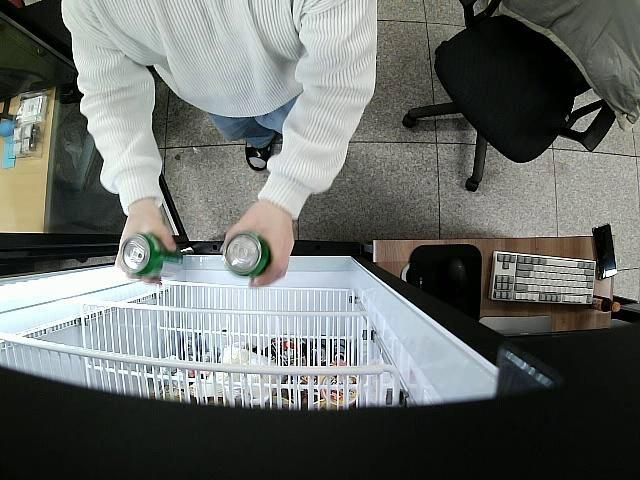12_chilsungCider: (120, 232, 185, 280), (222, 230, 272, 278)
